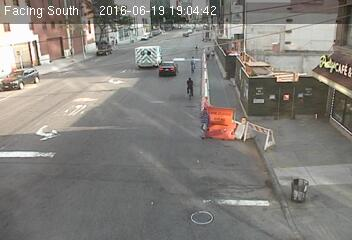neg: (179, 75, 199, 102), (183, 51, 201, 76), (141, 40, 153, 56), (95, 68, 106, 82)
pos: (201, 44, 211, 58), (210, 47, 219, 59)
